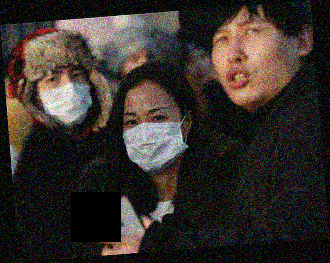with_mask: (122, 103, 188, 176), (34, 66, 94, 127)
without_mask: (212, 17, 300, 110)
